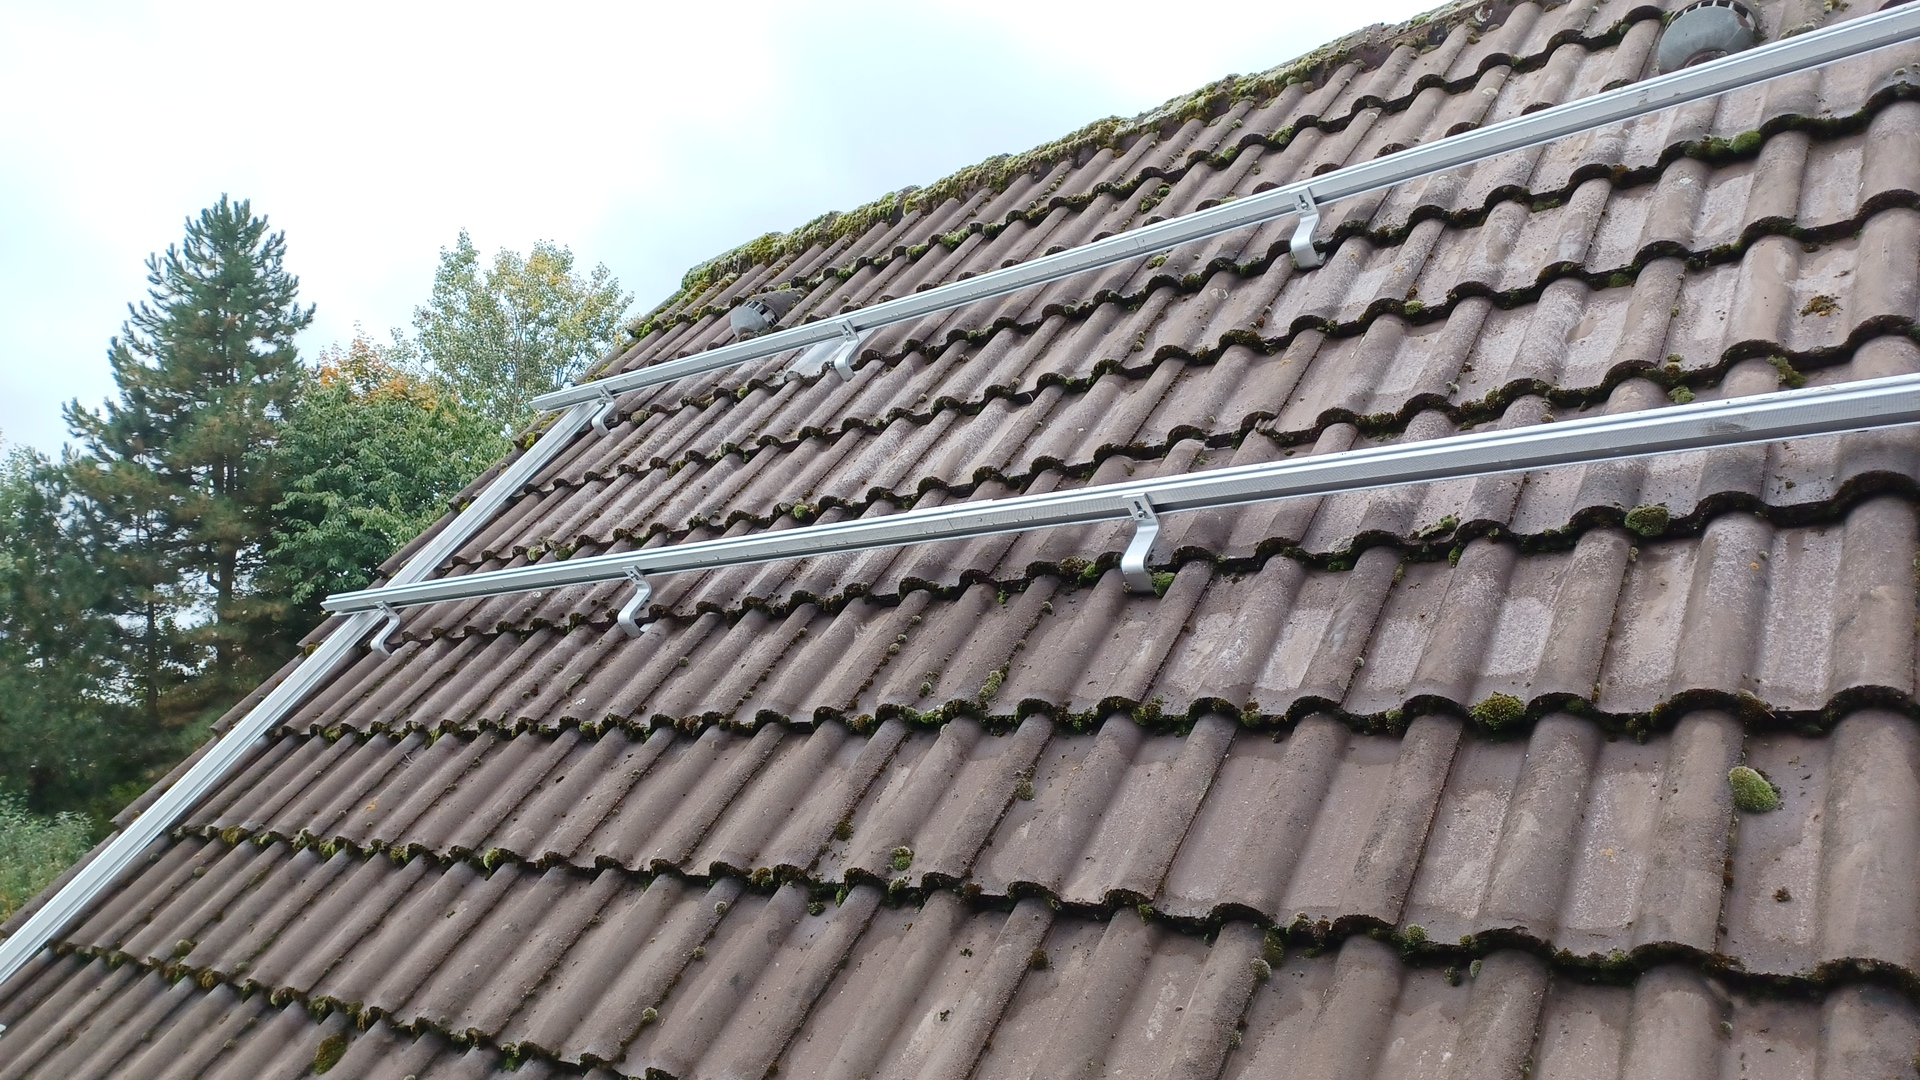hook: (1120, 493, 1175, 596), (1288, 186, 1327, 266), (617, 564, 655, 640), (833, 319, 862, 382), (371, 601, 401, 659), (591, 385, 617, 436)
